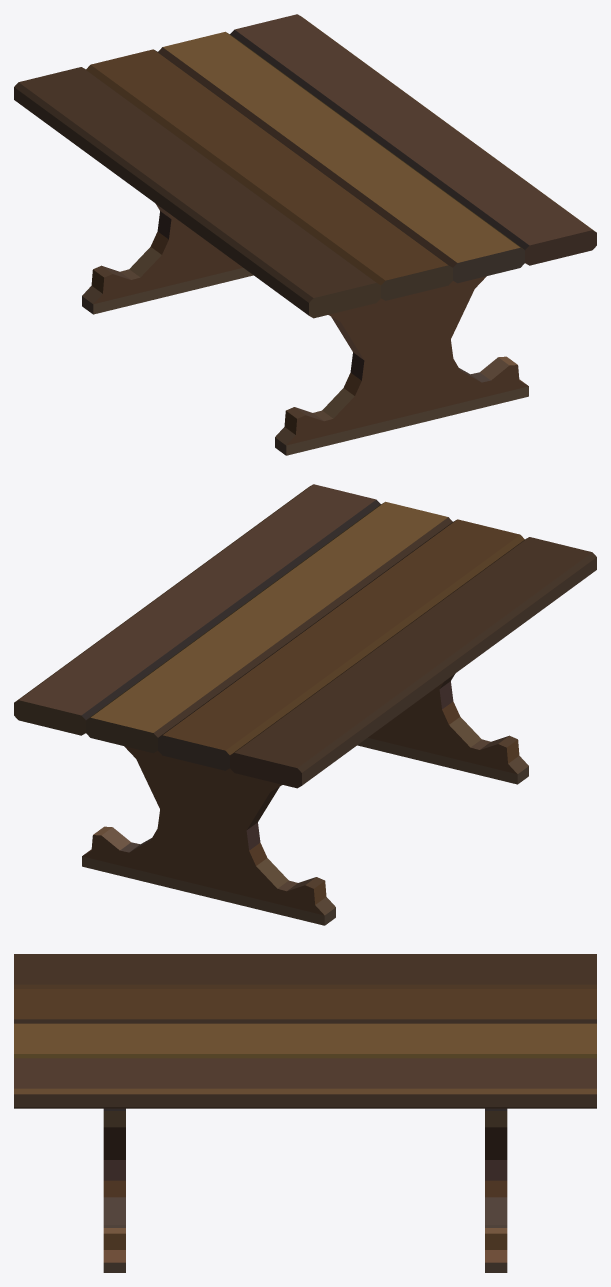
Rendered from Furniture_TableA.fbx.
3 views of the same model, one above another, from view 1: azimuth 30°, elevation 25°; view 2: azimuth 150°, elevation 25°; view 3: azimuth 270°, elevation 25° (orthographic).
Parts seen in each view (by area): view 1: Furniture_TableA; view 2: Furniture_TableA; view 3: Furniture_TableA.
Part boxes in pixels (box(x1,y1,x2,y2)): Furniture_TableA: box(14, 14, 596, 455); Furniture_TableA: box(14, 484, 596, 925); Furniture_TableA: box(14, 954, 596, 1272).
Bounding box in the file's own units: 146 × 94.92 × 260.
